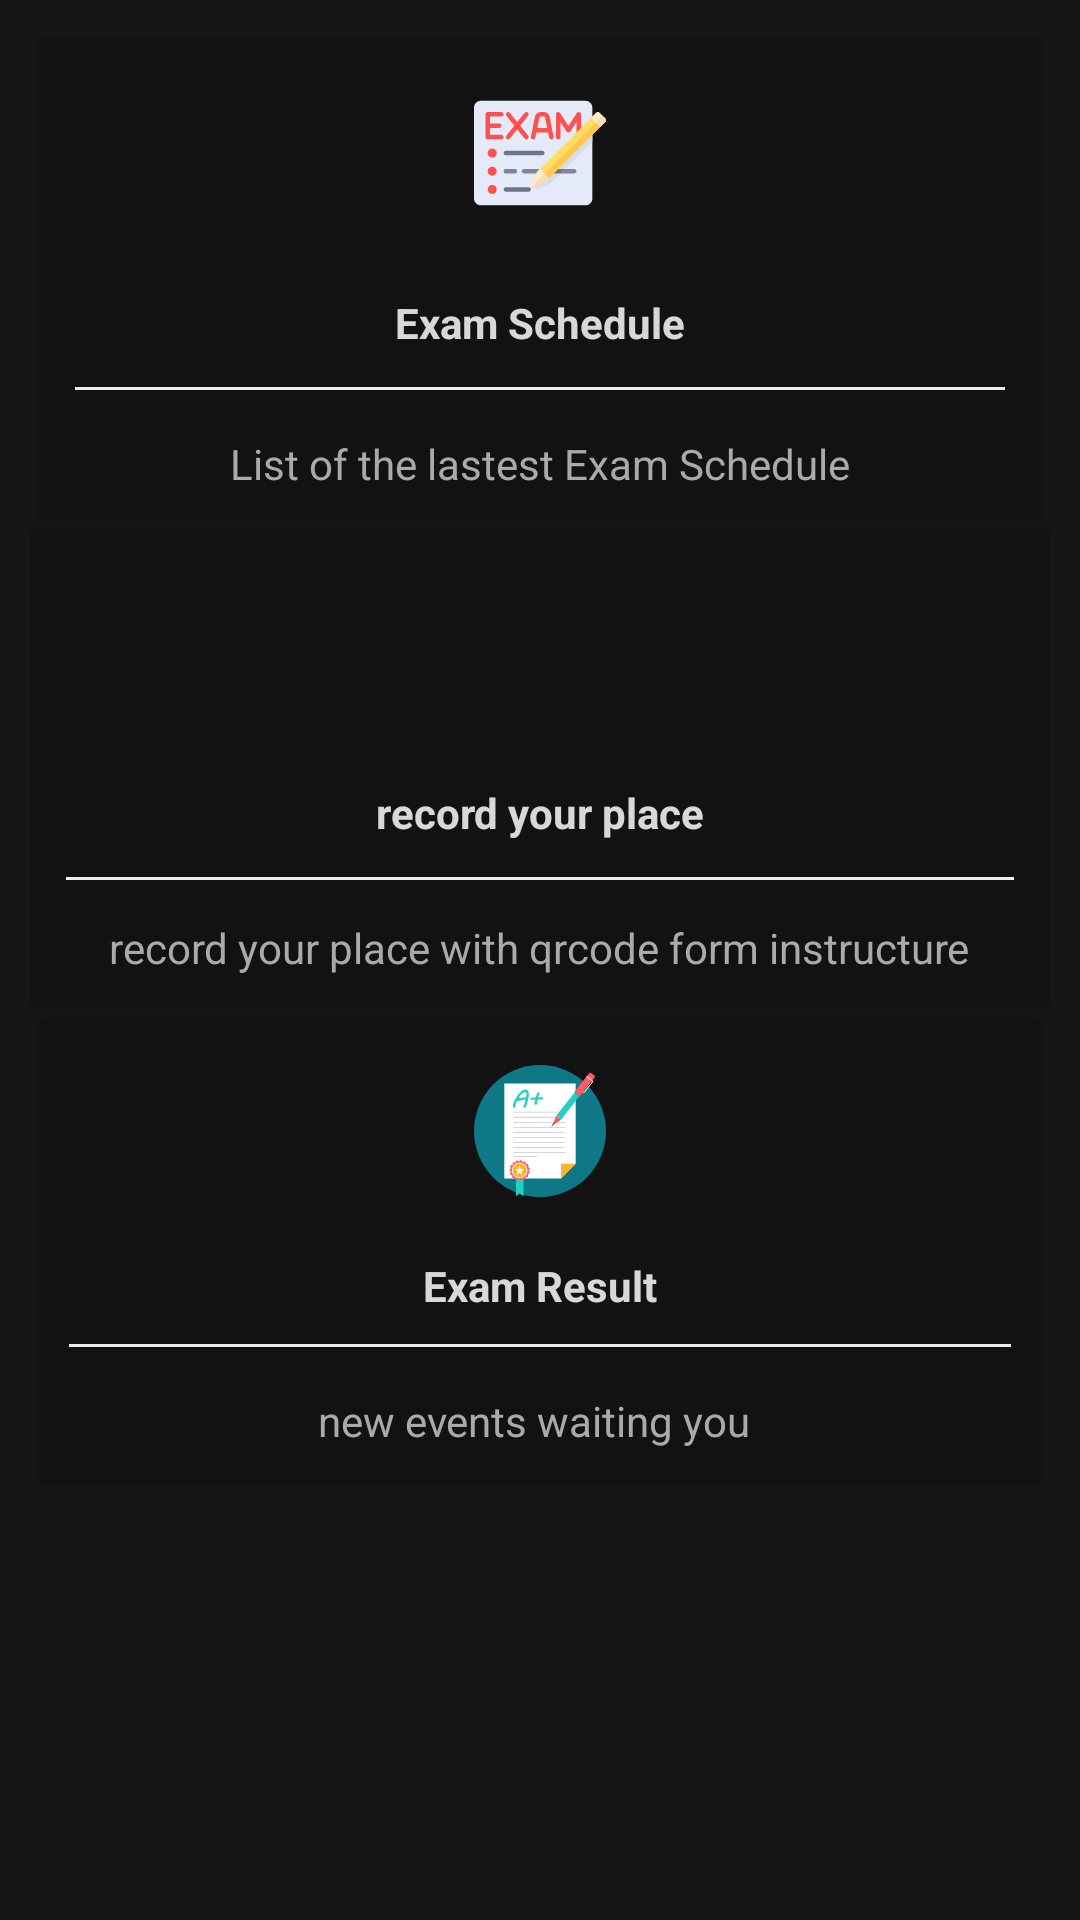

Screen size 1080 x 1920. Icon name, then its center in pixels as (x,y):
results: (540,1131)
